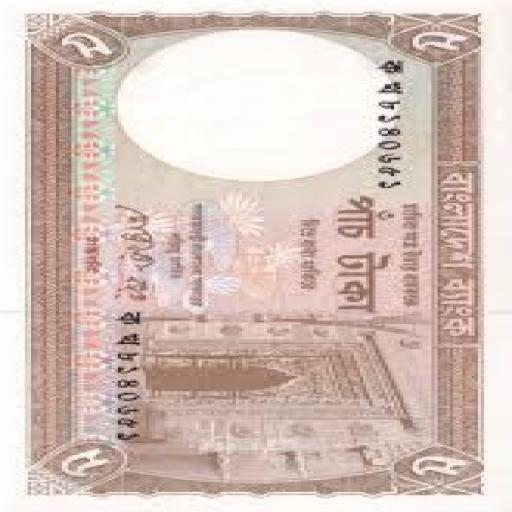5taka: (28, 15, 481, 495)
